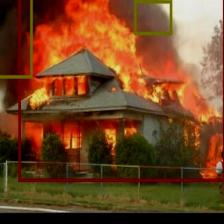fire: (18, 0, 224, 181)
smoke: (0, 0, 32, 77), (134, 0, 172, 35)
